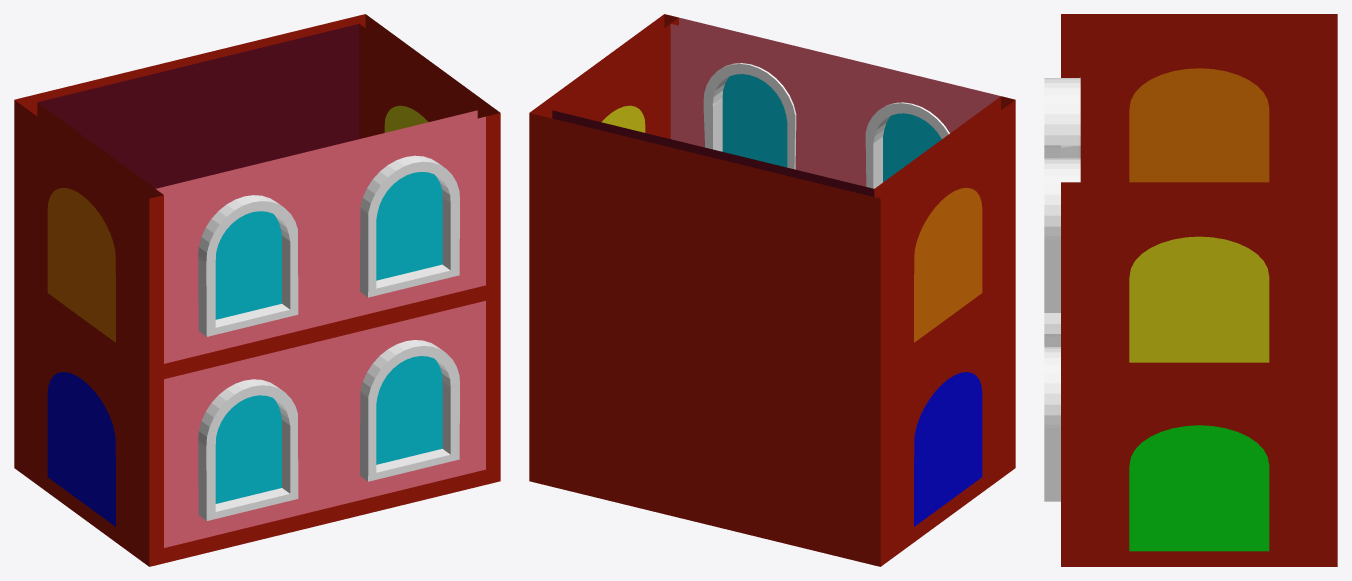
Rendered from arch_tall.glb.
3 views of the same model, side by side, from view 1: azimuth 30°, elevation 25°; view 2: azimuth 150°, elevation 25°; view 3: azimuth 270°, elevation 25° (orthographic). The views are drawn at different scales.
Parts seen in each view (by area): view 1: mesh; view 2: mesh; view 3: mesh.
Part boxes in pixels (box(x1,y1,x2,y2)): mesh: box(14, 14, 500, 566); mesh: box(529, 14, 1015, 566); mesh: box(1044, 14, 1337, 566).
Bounding box in the file's own units: 12.02 × 12.03 × 8.48.
